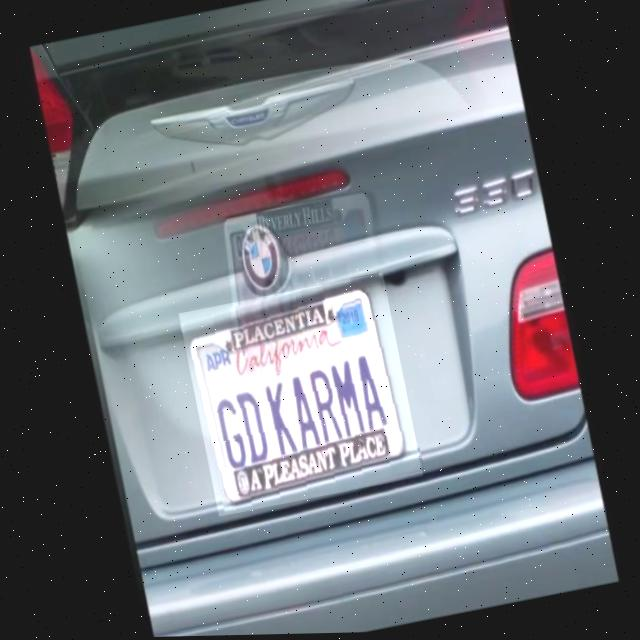LicensePlate: (176, 273, 422, 518)
